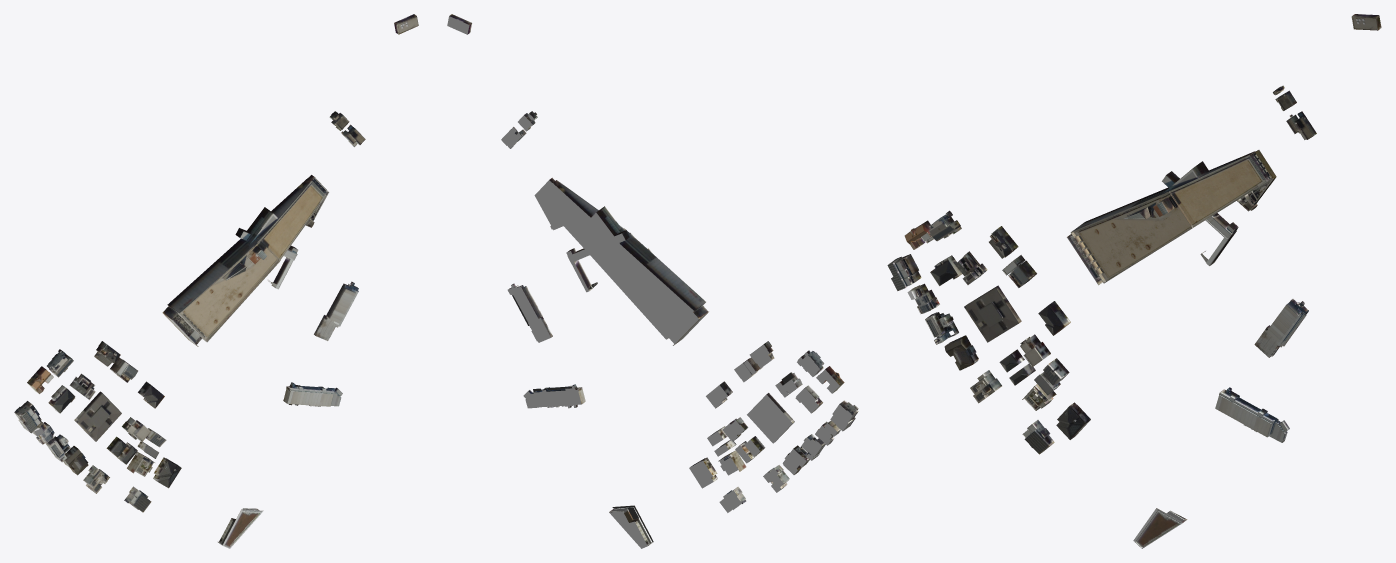
3 views of the same model, side by side, from view 1: azimuth 30°, elevation 25°; view 2: azimuth 150°, elevation 25°; view 3: azimuth 330°, elevation 25° (orthographic). The views are drawn at different scales.
Visible parts, largest first — view 1: 533936831_bldg_6677; view 2: 533936831_bldg_6677; view 3: 533936831_bldg_6677.
Boxes of the visible parts, x1=… form: 533936831_bldg_6677: x1=14, y1=14, x2=418, y2=548; 533936831_bldg_6677: x1=447, y1=14, x2=858, y2=548; 533936831_bldg_6677: x1=887, y1=14, x2=1381, y2=548.
Size of the model in its own units: 315 by 362 by 22.78.
Materials: 32 (31 with a texture image).
